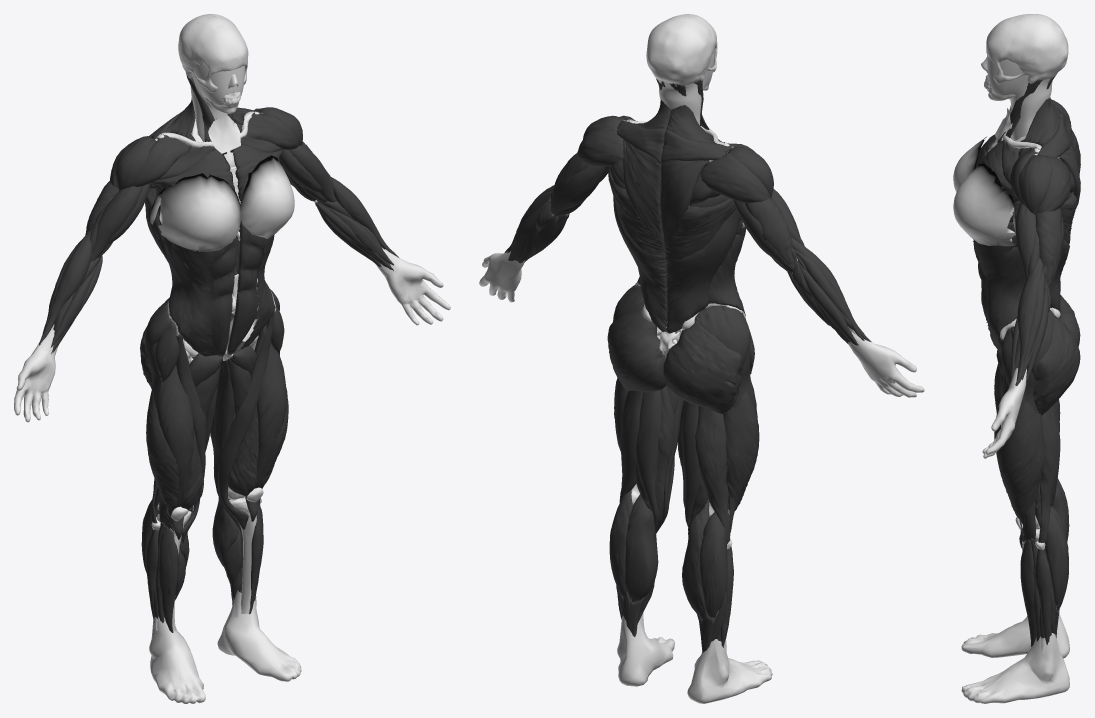
Rendered from corpo-f-8.glb.
3 views of the same model, side by side, from view 1: azimuth 30°, elevation 25°; view 2: azimuth 150°, elevation 25°; view 3: azimuth 270°, elevation 25° (orthographic).
Parts seen in each view (by area): view 1: pele, deco, mama, quad_reto_femoral, obliquos, adutores, osso, antebraco_flexores, quad_vasto_lateral, ombro_frontal, antebraco_braquiorradial, quad_vasto_medial (+16 smaller); view 2: pele, gluteo_maximo, panturrilha_gastro, isquio_semitendineo, dorsal_inferior, trapezio_inferior, isquio_biceps_femoral, dorsal_superior, osso, antebraco_extensores, ombro_posterior, quad_vasto_lateral (+13 smaller); view 3: pele, osso, mama, deco, quad_vasto_lateral, obliquos, gluteo_maximo, panturrilha_gastro, cabeca, isquio_biceps_femoral, ombro_lateral, triceps_lateral (+22 smaller).
Part boxes in pixels (bbox=[...]): pele: bbox=[14, 249, 450, 703]; deco: bbox=[146, 73, 279, 632]; mama: bbox=[150, 155, 294, 251]; quad_reto_femoral: bbox=[156, 324, 286, 539]; obliquos: bbox=[163, 234, 275, 356]; adutores: bbox=[182, 341, 256, 544]; osso: bbox=[178, 14, 248, 113]; antebraco_flexores: bbox=[50, 200, 393, 353]; quad_vasto_lateral: bbox=[146, 387, 288, 517]; ombro_frontal: bbox=[131, 111, 298, 186]; antebraco_braquiorradial: bbox=[39, 177, 398, 345]; quad_vasto_medial: bbox=[181, 406, 258, 512]; pele: bbox=[479, 251, 924, 703]; gluteo_maximo: bbox=[607, 304, 742, 414]; panturrilha_gastro: bbox=[609, 489, 727, 618]; isquio_semitendineo: bbox=[635, 386, 708, 529]; dorsal_inferior: bbox=[619, 228, 730, 333]; trapezio_inferior: bbox=[623, 140, 709, 249]; isquio_biceps_femoral: bbox=[619, 390, 730, 543]; dorsal_superior: bbox=[608, 166, 740, 257]; osso: bbox=[646, 14, 717, 90]; antebraco_extensores: bbox=[507, 191, 864, 345]; ombro_posterior: bbox=[577, 125, 770, 203]; quad_vasto_lateral: bbox=[614, 377, 759, 510]; pele: bbox=[961, 368, 1069, 703]; osso: bbox=[981, 14, 1068, 100]; mama: bbox=[953, 137, 1015, 246]; deco: bbox=[997, 79, 1059, 646]; quad_vasto_lateral: bbox=[999, 402, 1044, 540]; obliquos: bbox=[973, 222, 1025, 352]; gluteo_maximo: bbox=[1033, 295, 1080, 415]; panturrilha_gastro: bbox=[1045, 478, 1069, 610]; cabeca: bbox=[987, 55, 1056, 148]; isquio_biceps_femoral: bbox=[1035, 399, 1060, 543]; ombro_lateral: bbox=[1018, 99, 1052, 214]; triceps_lateral: bbox=[1035, 208, 1062, 283].
Bounding box in the file's own units: 1.15 × 1.65 × 0.2907.
1 material, 1 textured.
